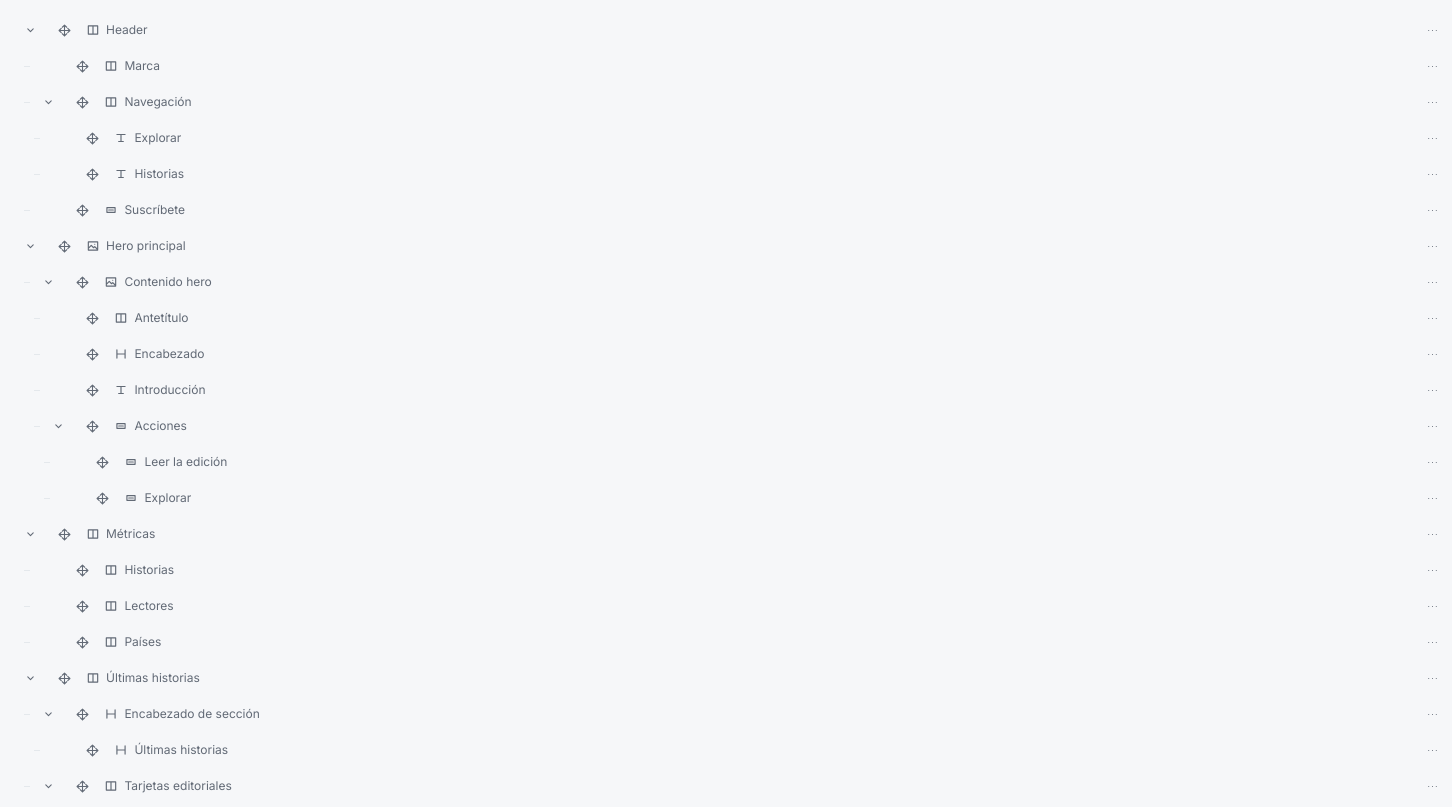
Test: M05.3 CanonicalLayerTree › expande y contrae visualmente ramas del árbol sin perder su jerarquía
Expected: the text "Marca" is shown, [124,58,160,74]
Click the button named "Contraer Header": (30, 30) [14,14,46,46]
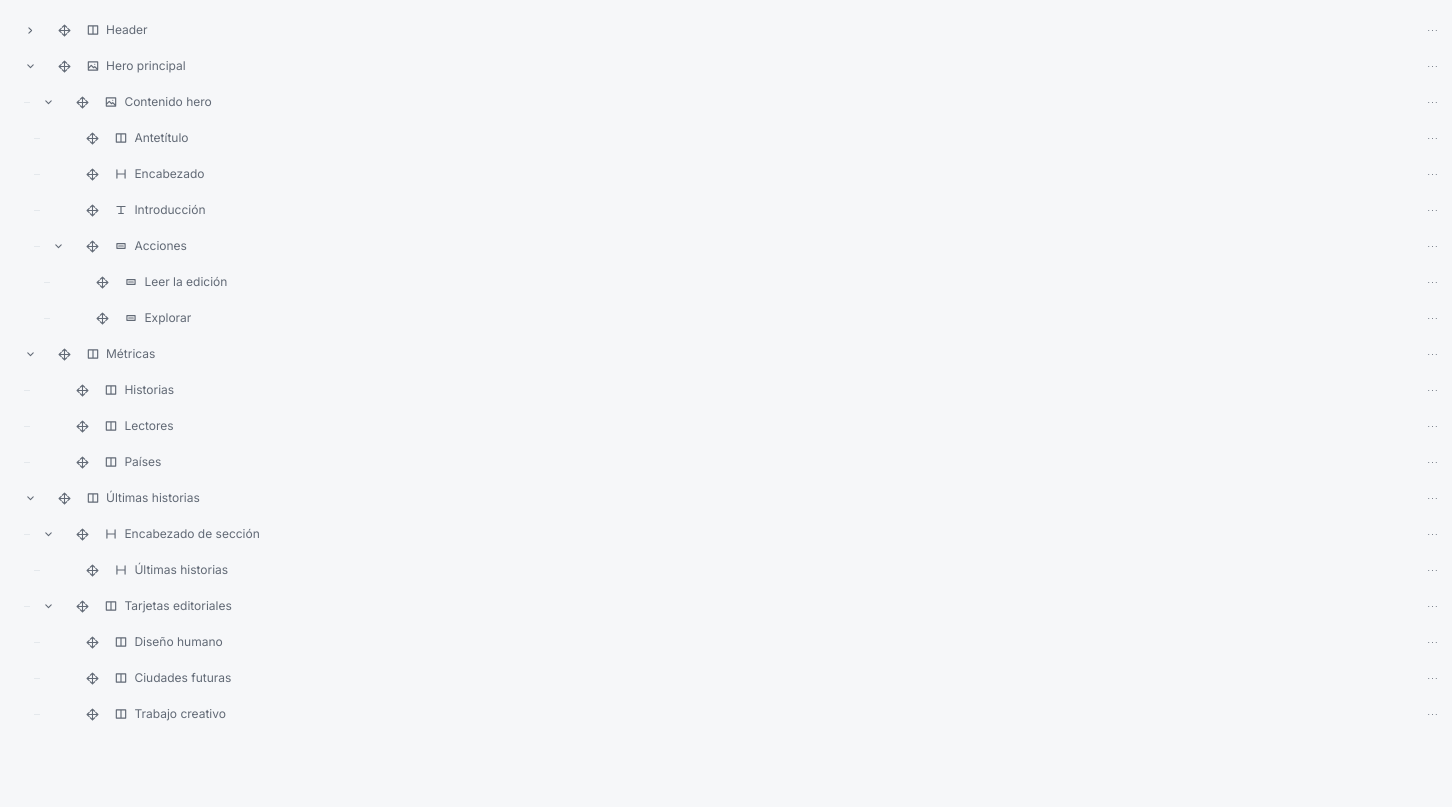
Result: the button "Marca" is gone
Result: the button named "Expandir Header" is shown
Click the button named "Expandir Header": (30, 30) [14,14,46,46]
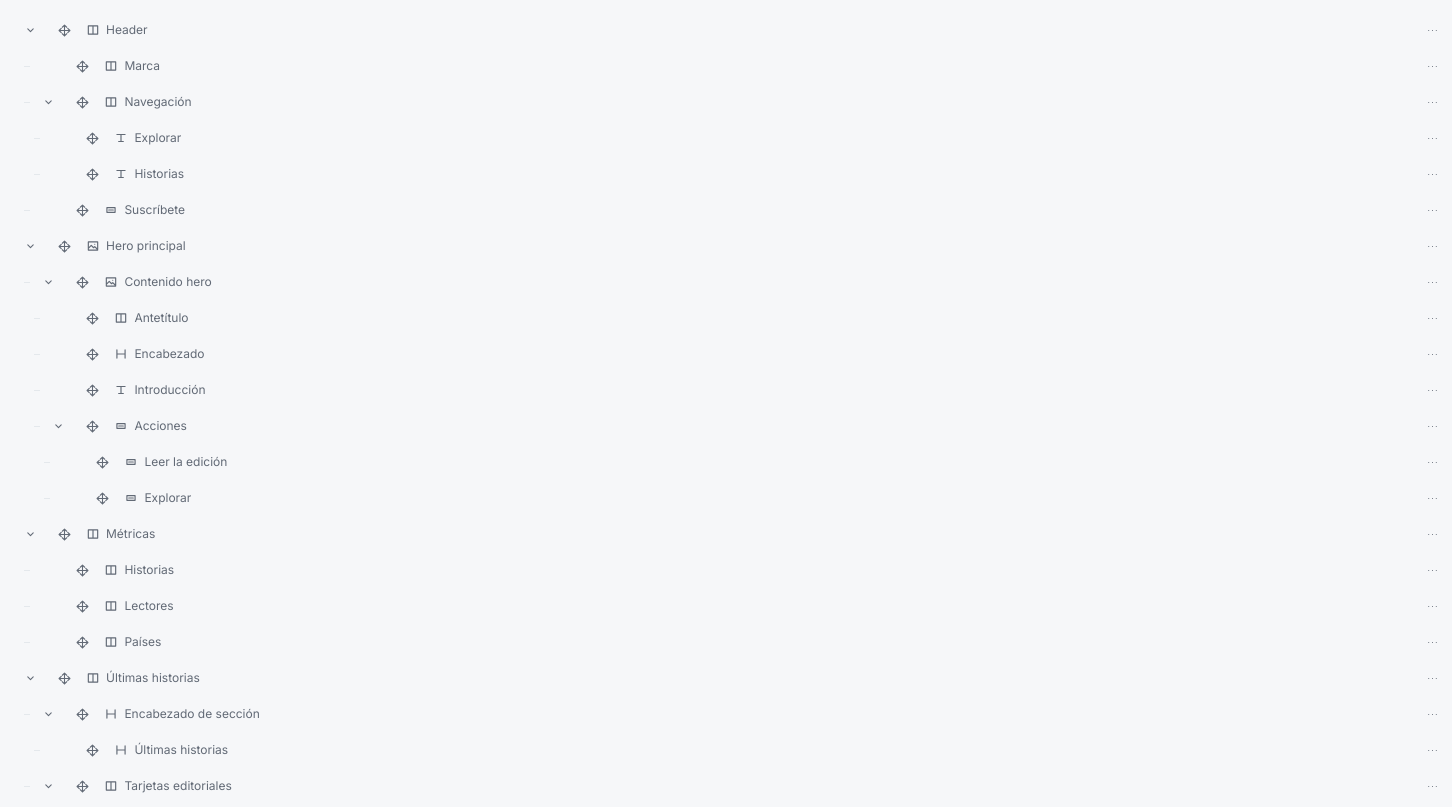
Result: the text "Marca" is shown at [124,58,160,74]
